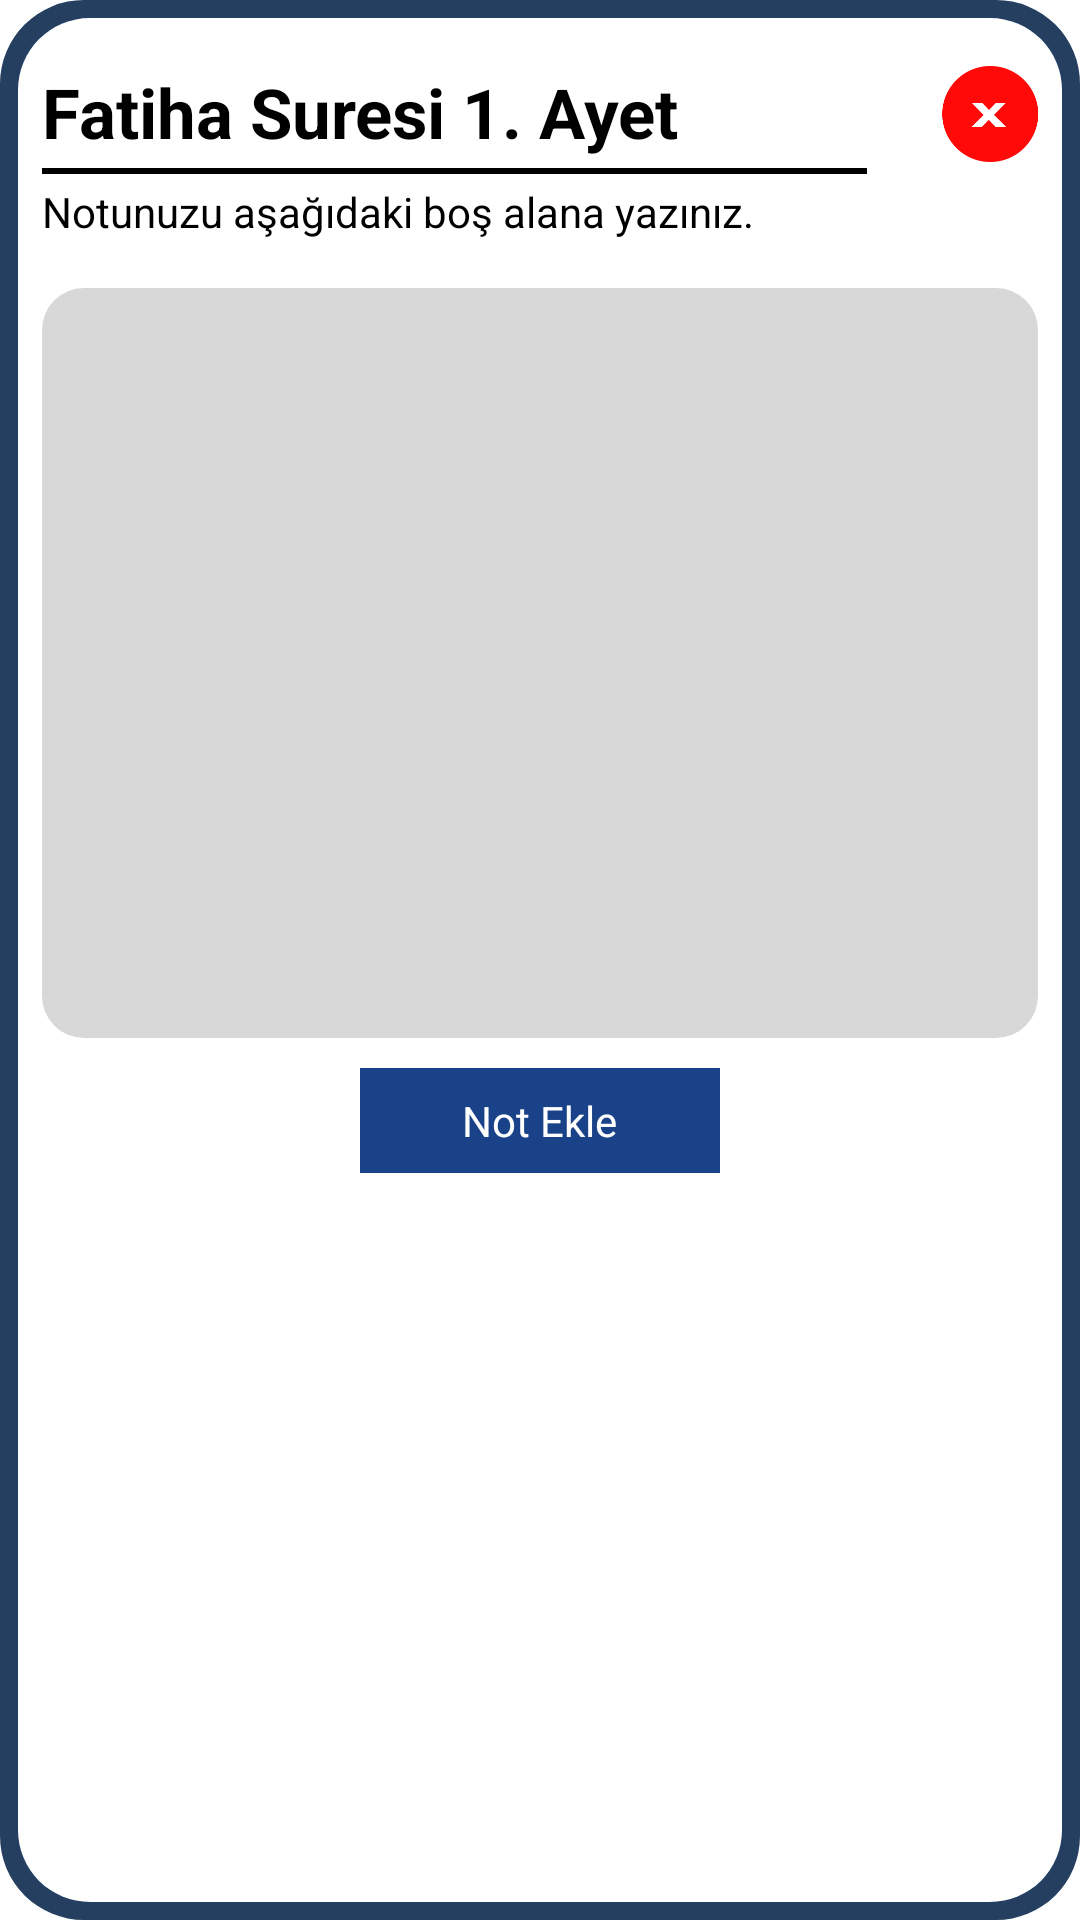

Named icons in this screenshot (1080w x 1920h) and their centers, (x,y):
close: (990,114)
